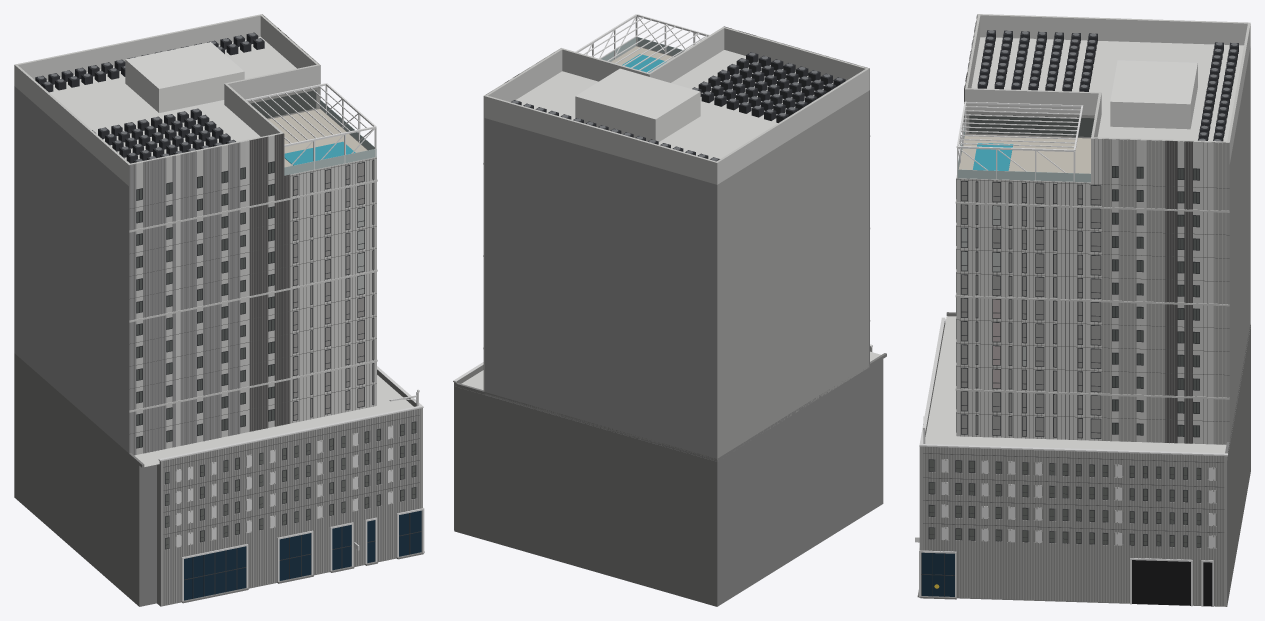
File: inspire-on-22nd-look.glb
The picture shows the model from 3 angles, left to right: view 1: azimuth 30°, elevation 25°; view 2: azimuth 150°, elevation 25°; view 3: azimuth 270°, elevation 25°; orthographic projection. The views are drawn at different scales.
Parts seen in each view (by area): view 1: n_wall_white_panel, n_wall_grey, n_wall_grey_south, n_wall_plain_grey, n_wall_screen_rib, n_wall_screen_perforated, n_frame_dark, n_wall_grey_south_rib, n_wall_charcoal, n_roof_membrane, n_joint_dark, n_panel_grey_light (+15 smaller); view 2: n_wall_grey, n_wall_plain_grey, n_wall_white_panel, n_roof_membrane, n_penthouse_white, n_condenser_dark, n_trellis_white, n_condenser_fan, n_glass_rail; view 3: n_wall_white_panel, n_wall_screen_perforated, n_wall_grey, n_wall_screen_rib, n_roof_membrane, n_frame_dark, n_joint_dark, n_glass_tower, n_wall_grey_rib, n_wall_charcoal, n_penthouse_white, n_glass_tower_dark (+17 smaller).
Boxes of the visible parts, bbox=[...] form: n_wall_white_panel: bbox=[14, 14, 377, 446]; n_wall_grey: bbox=[14, 14, 319, 452]; n_wall_grey_south: bbox=[129, 142, 240, 455]; n_wall_plain_grey: bbox=[14, 353, 424, 606]; n_wall_screen_rib: bbox=[160, 408, 422, 605]; n_wall_screen_perforated: bbox=[157, 369, 421, 606]; n_frame_dark: bbox=[136, 160, 421, 598]; n_wall_grey_south_rib: bbox=[131, 143, 239, 454]; n_wall_charcoal: bbox=[249, 27, 290, 431]; n_roof_membrane: bbox=[46, 36, 413, 466]; n_joint_dark: bbox=[129, 158, 419, 534]; n_panel_grey_light: bbox=[136, 25, 311, 454]; n_wall_grey: bbox=[483, 52, 869, 460]; n_wall_plain_grey: bbox=[454, 353, 886, 606]; n_wall_white_panel: bbox=[483, 26, 870, 348]; n_roof_membrane: bbox=[461, 50, 880, 389]; n_penthouse_white: bbox=[575, 68, 700, 141]; n_condenser_dark: bbox=[511, 52, 845, 161]; n_trellis_white: bbox=[575, 14, 709, 72]; n_condenser_fan: bbox=[512, 52, 842, 160]; n_glass_rail: bbox=[601, 37, 684, 61]; n_wall_white_panel: bbox=[955, 14, 1250, 444]; n_wall_screen_perforated: bbox=[921, 319, 1227, 606]; n_wall_grey: bbox=[965, 46, 1250, 444]; n_wall_screen_rib: bbox=[919, 446, 1226, 605]; n_roof_membrane: bbox=[925, 37, 1243, 453]; n_frame_dark: bbox=[921, 166, 1201, 596]; n_joint_dark: bbox=[923, 139, 1229, 532]; n_glass_tower: bbox=[961, 181, 1100, 438]; n_wall_grey_rib: bbox=[1103, 139, 1226, 444]; n_wall_charcoal: bbox=[964, 72, 1192, 443]; n_penthouse_white: bbox=[1110, 60, 1197, 129]; n_glass_tower_dark: bbox=[969, 114, 1199, 436].
Bounding box in the file's own units: 38.43 × 55.68 × 37.51.
